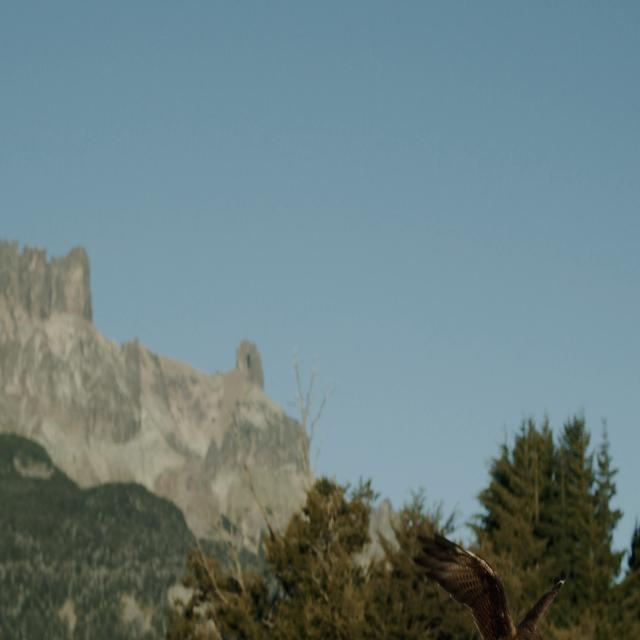bird: (413, 529, 563, 638)
